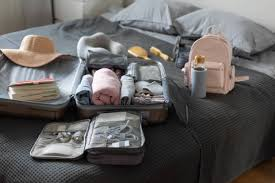suitcase: (1, 46, 170, 125)
